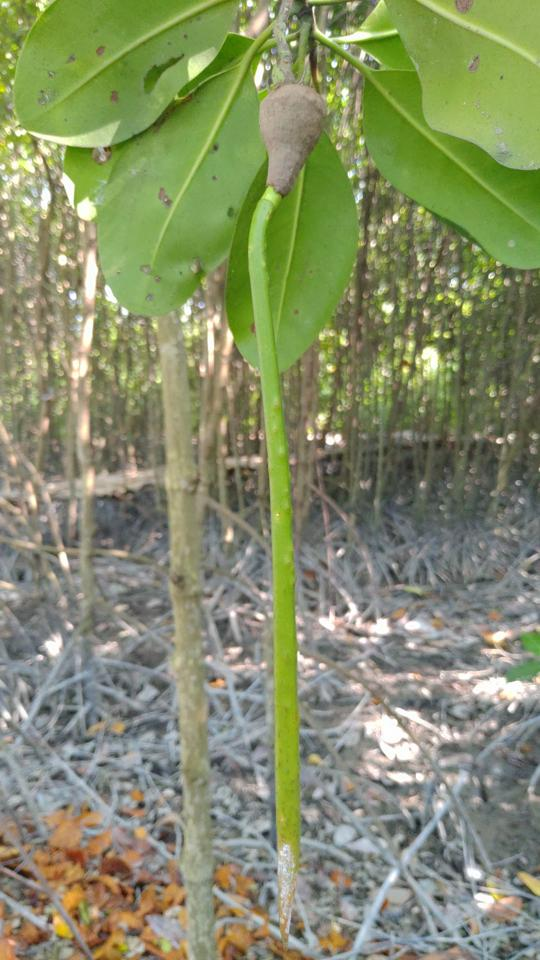setengah matang: (241, 64, 348, 941)
